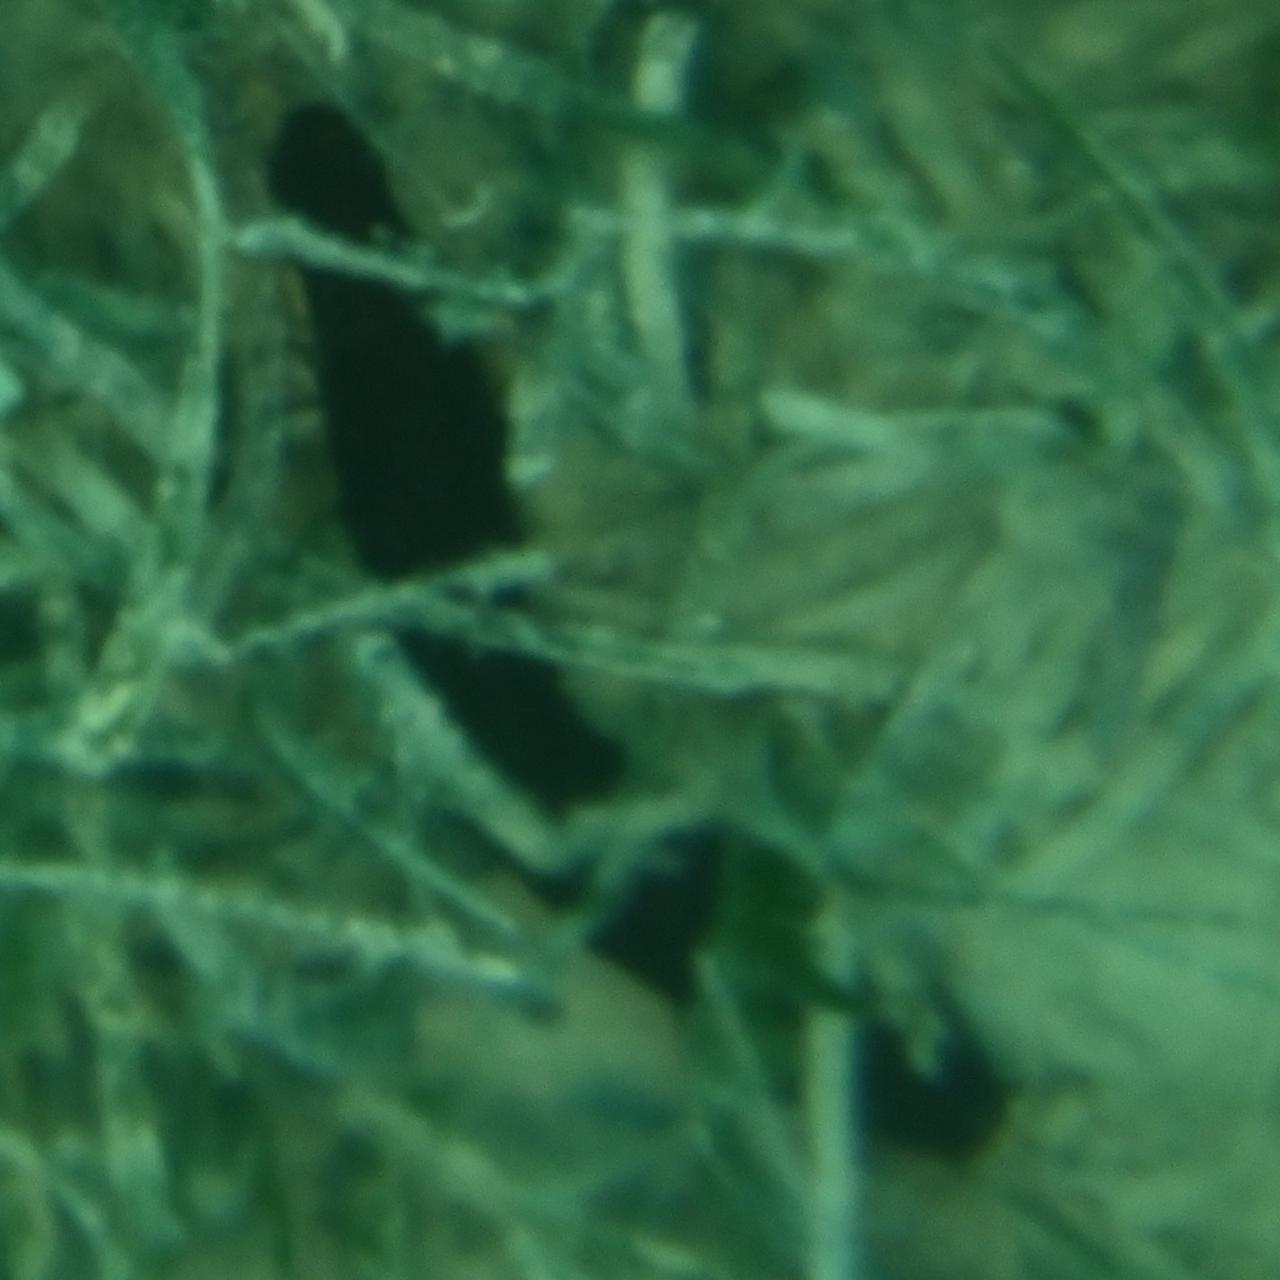Holothuria tubulosa: (260, 96, 1020, 1184)
